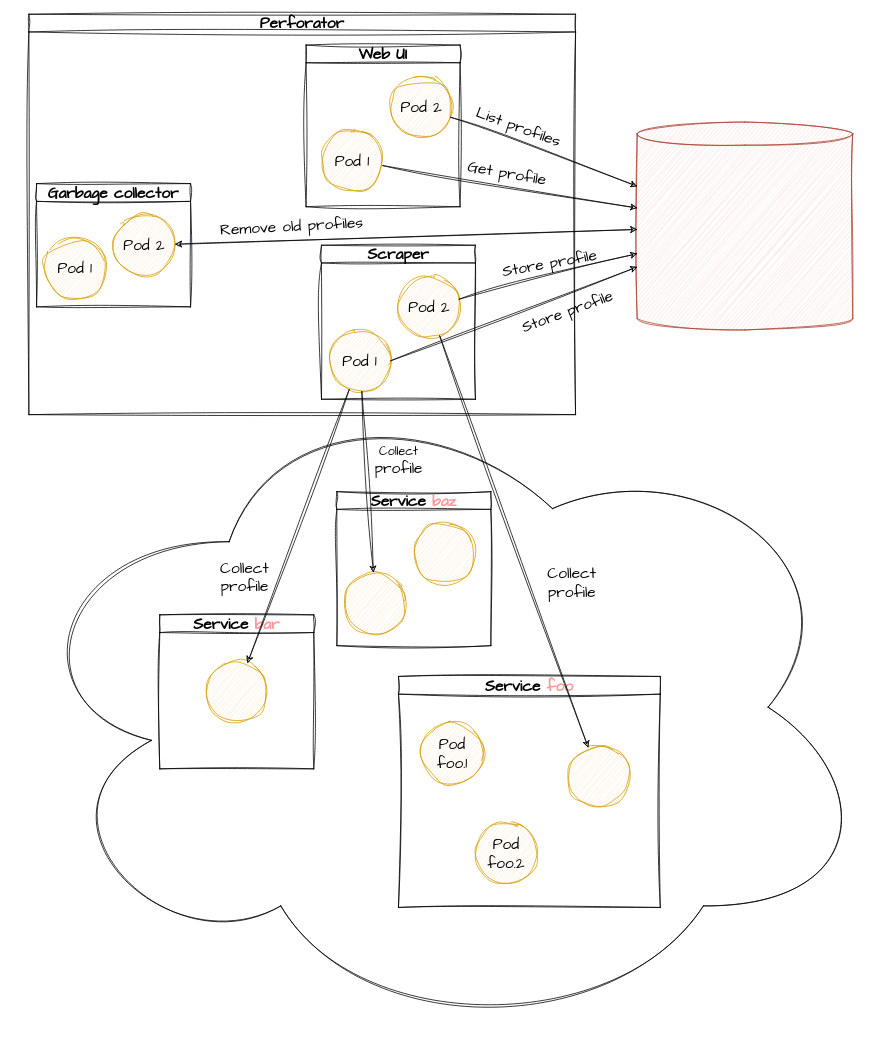
The diagram is 889 pixels wide and 1052 high, and some of its shapes have lost their labels. The shapes that lost their labels are listed below. From the top down, each one's centre as x and y in pixels, then its label:
At pixel 744 225: "YTsaurus".
At pixel 444 553: "Pod baz.2".
At pixel 375 603: "Pod baz.1".
At pixel 236 691: "Pod bar.1".
At pixel 598 776: "Pod foo.3".
